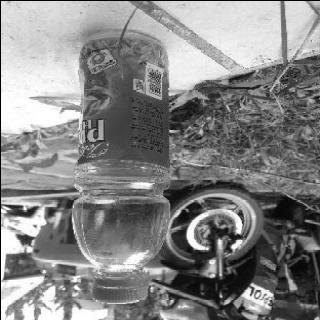plastic_bottles: (66, 30, 176, 304)
